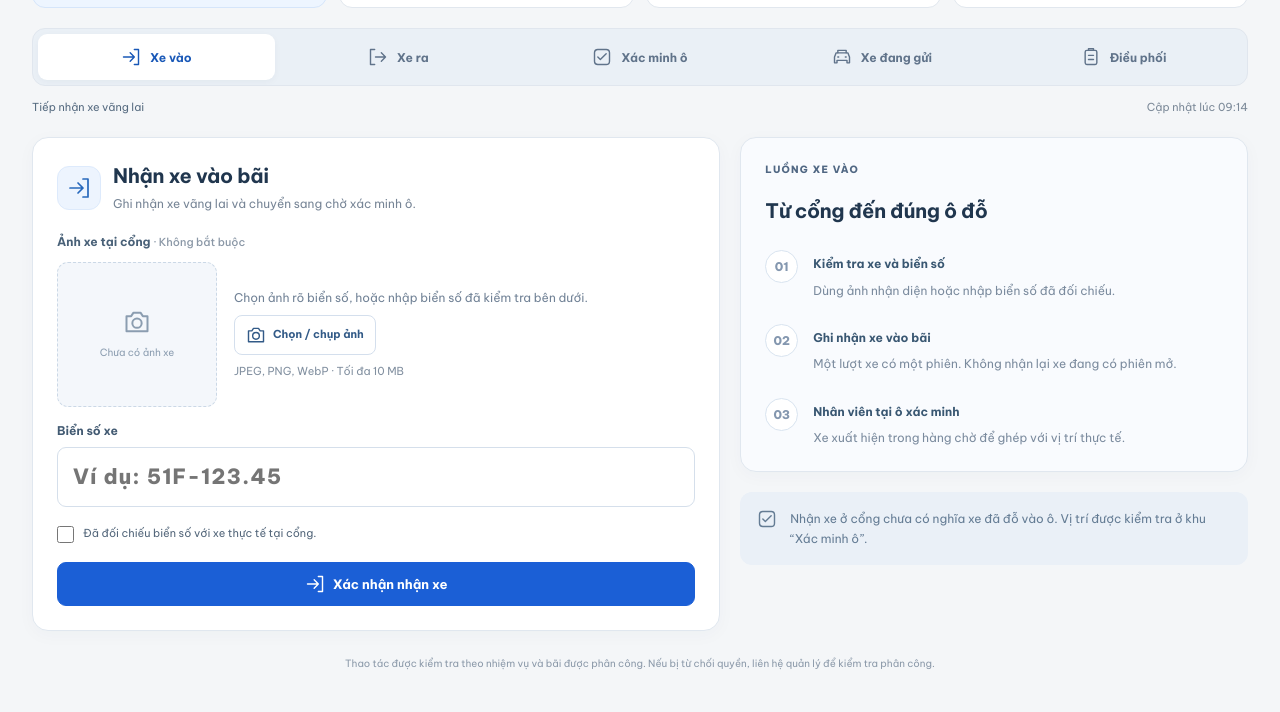
Test case: Staff workspace › receives a walk-in vehicle without assigning a physical slot
(page scrolled)
Expected: the button "Xác nhận nhận xe" is enabled, [57, 562, 695, 606]
Type "51a-99999" into the field labelled "Biển số xe".
click(376, 477); type("51a-99999")  # box [57, 447, 695, 507]
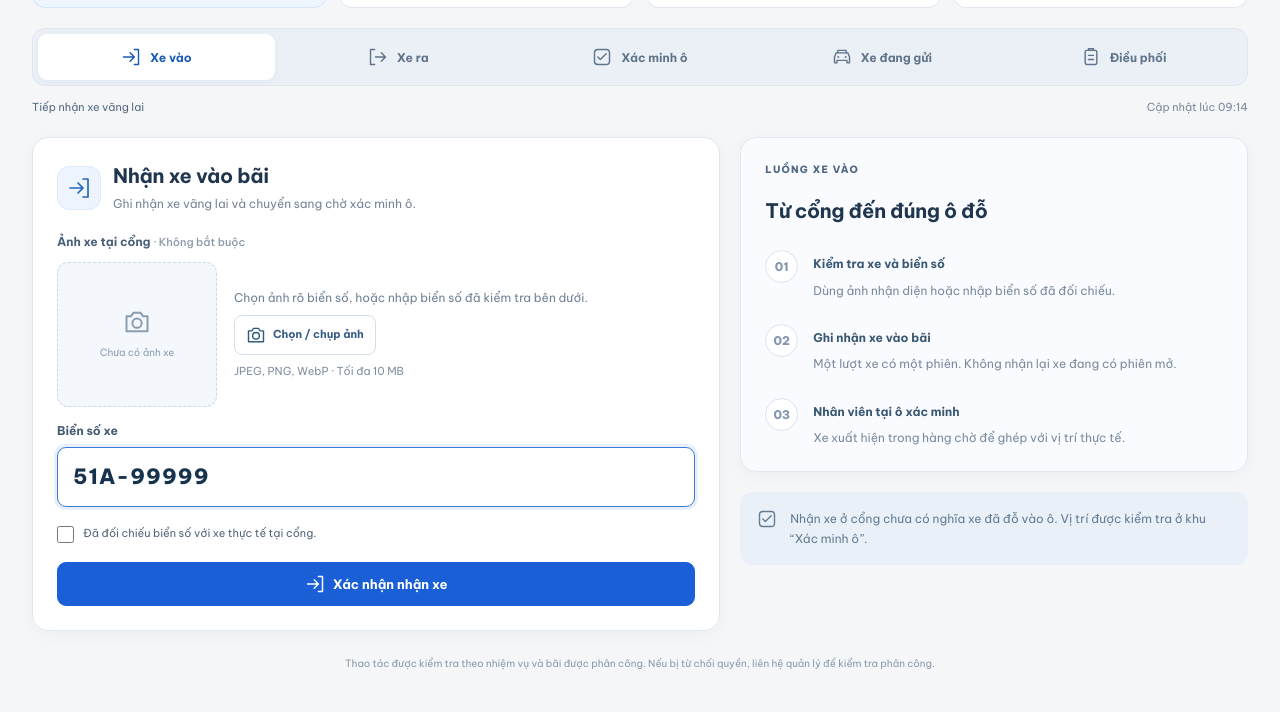
Click the checkbox.
click(66, 534)  # box [57, 526, 74, 543]
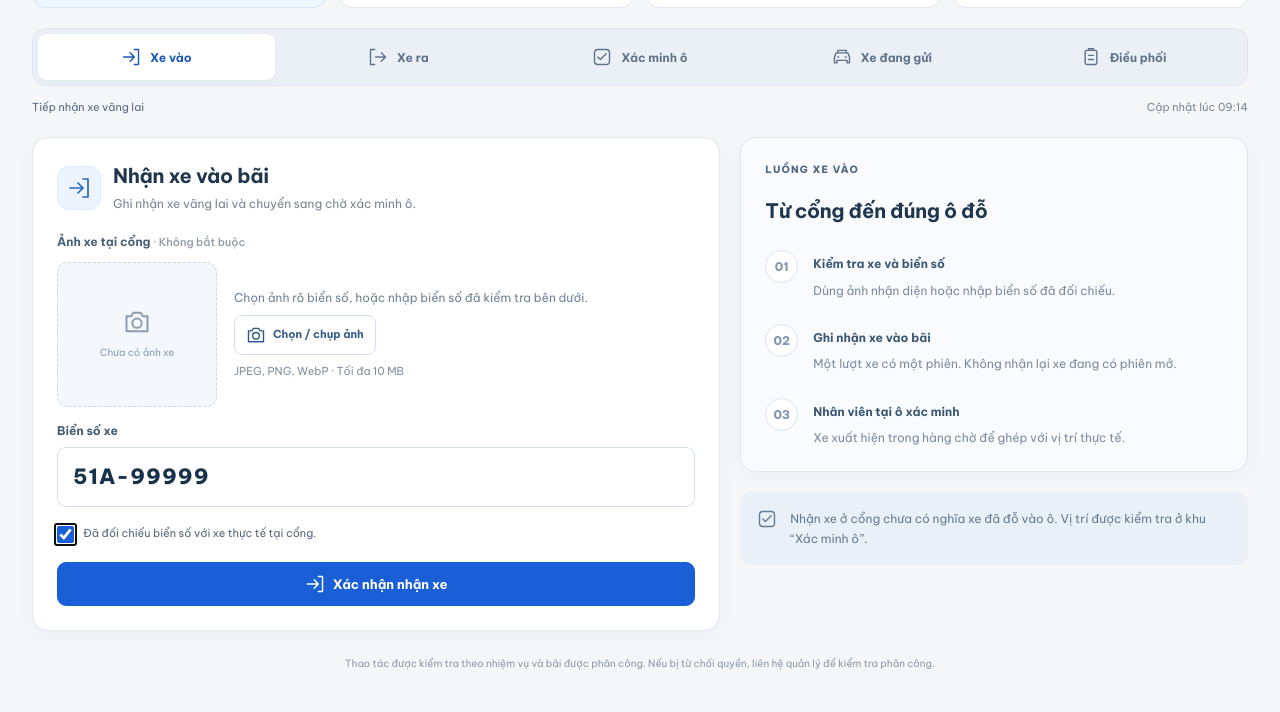
Click the button "Xác nhận nhận xe".
click(376, 584)  # box [57, 562, 695, 606]
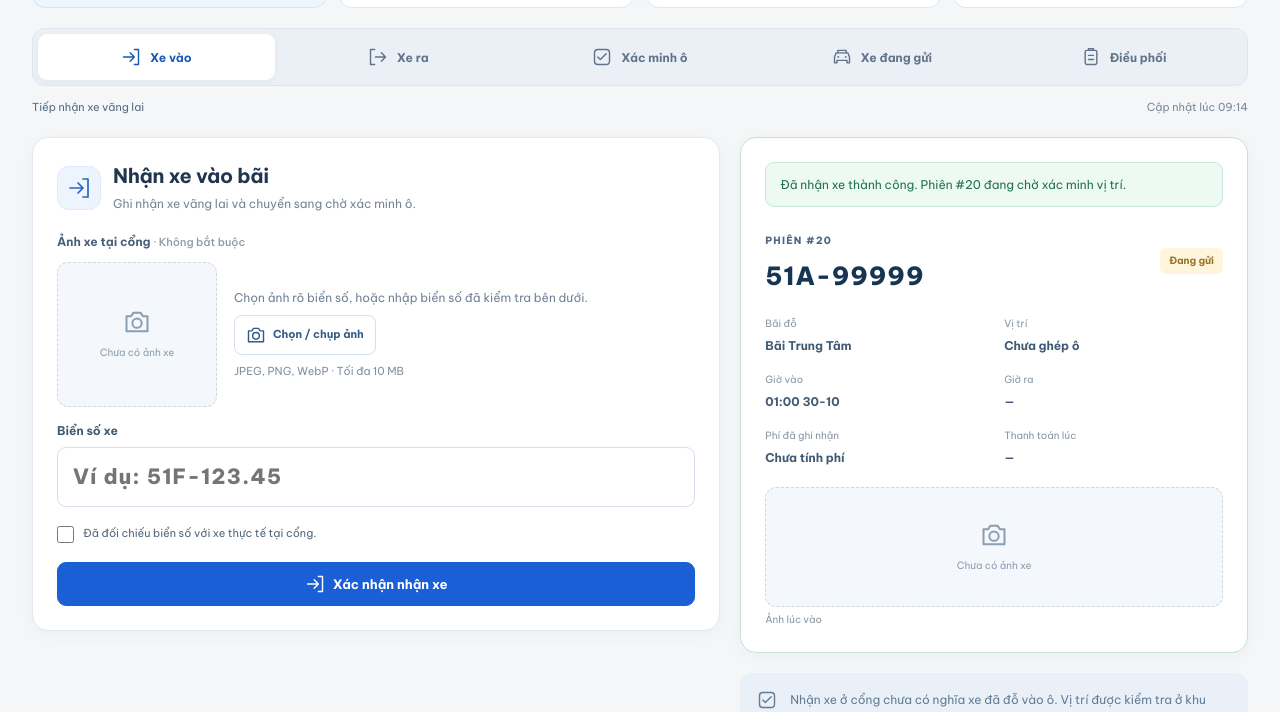
Result: the text "Đã nhận xe thành công. Phiên #20 đang chờ xác minh vị trí." is shown at [765, 162, 1223, 207]
Result: the field labelled "Biển số xe" is empty at [57, 447, 695, 507]
